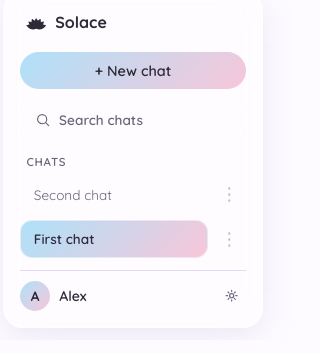
Scenario: Sidebar › search › shows a no-results message when nothing matches
The width and height of the screenshot is (320, 353).
Click the button "Search chats" at x=133, y=120, box [20,101,246,138]
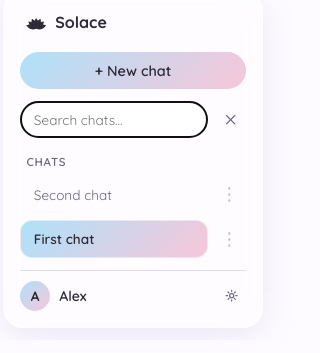
Type "nonexistent" into the field labelled "Search chats" at x=114, y=120, box [20,101,208,138]
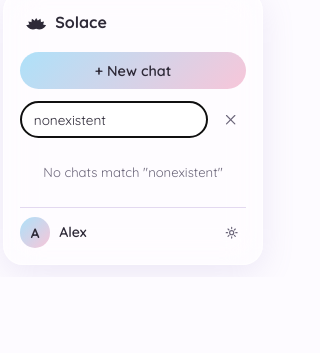
Check: the text "No chats match \"nonexistent\"" is shown, box [43,164,223,180]
